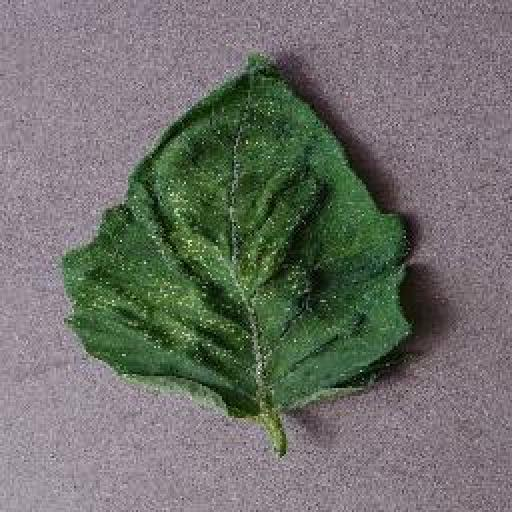Spider Mites: (64, 52, 415, 417)
